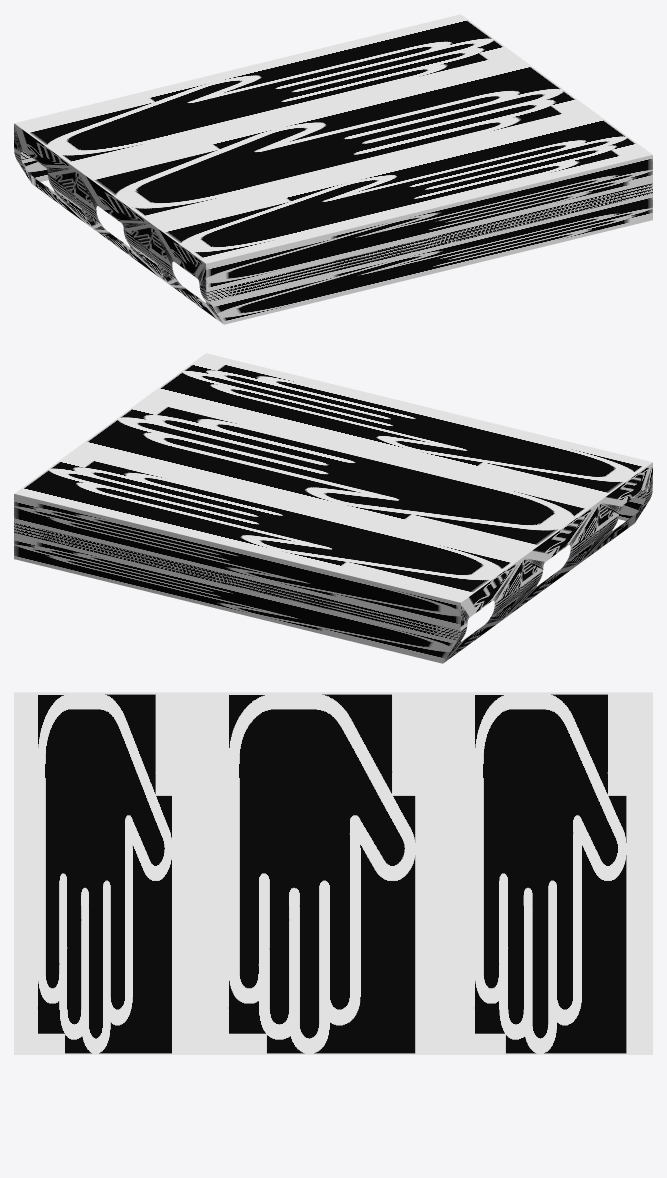
File: Outside_Walls_01.fbx
The picture shows the model from 3 angles, top to bottom: view 1: azimuth 30°, elevation 25°; view 2: azimuth 150°, elevation 25°; view 3: azimuth 270°, elevation 25°; orthographic projection. The views are drawn at different scales.
Visible parts, largest first — view 1: C11; view 2: C11; view 3: C11.
Boxes of the visible parts, x1,y1,x2,y2 form: C11: (14, 14, 652, 324); C11: (14, 353, 652, 663); C11: (14, 692, 652, 1054).
Size of the model in its own units: 25.55 by 3.57 by 19.01.
1 material, 1 textured.
